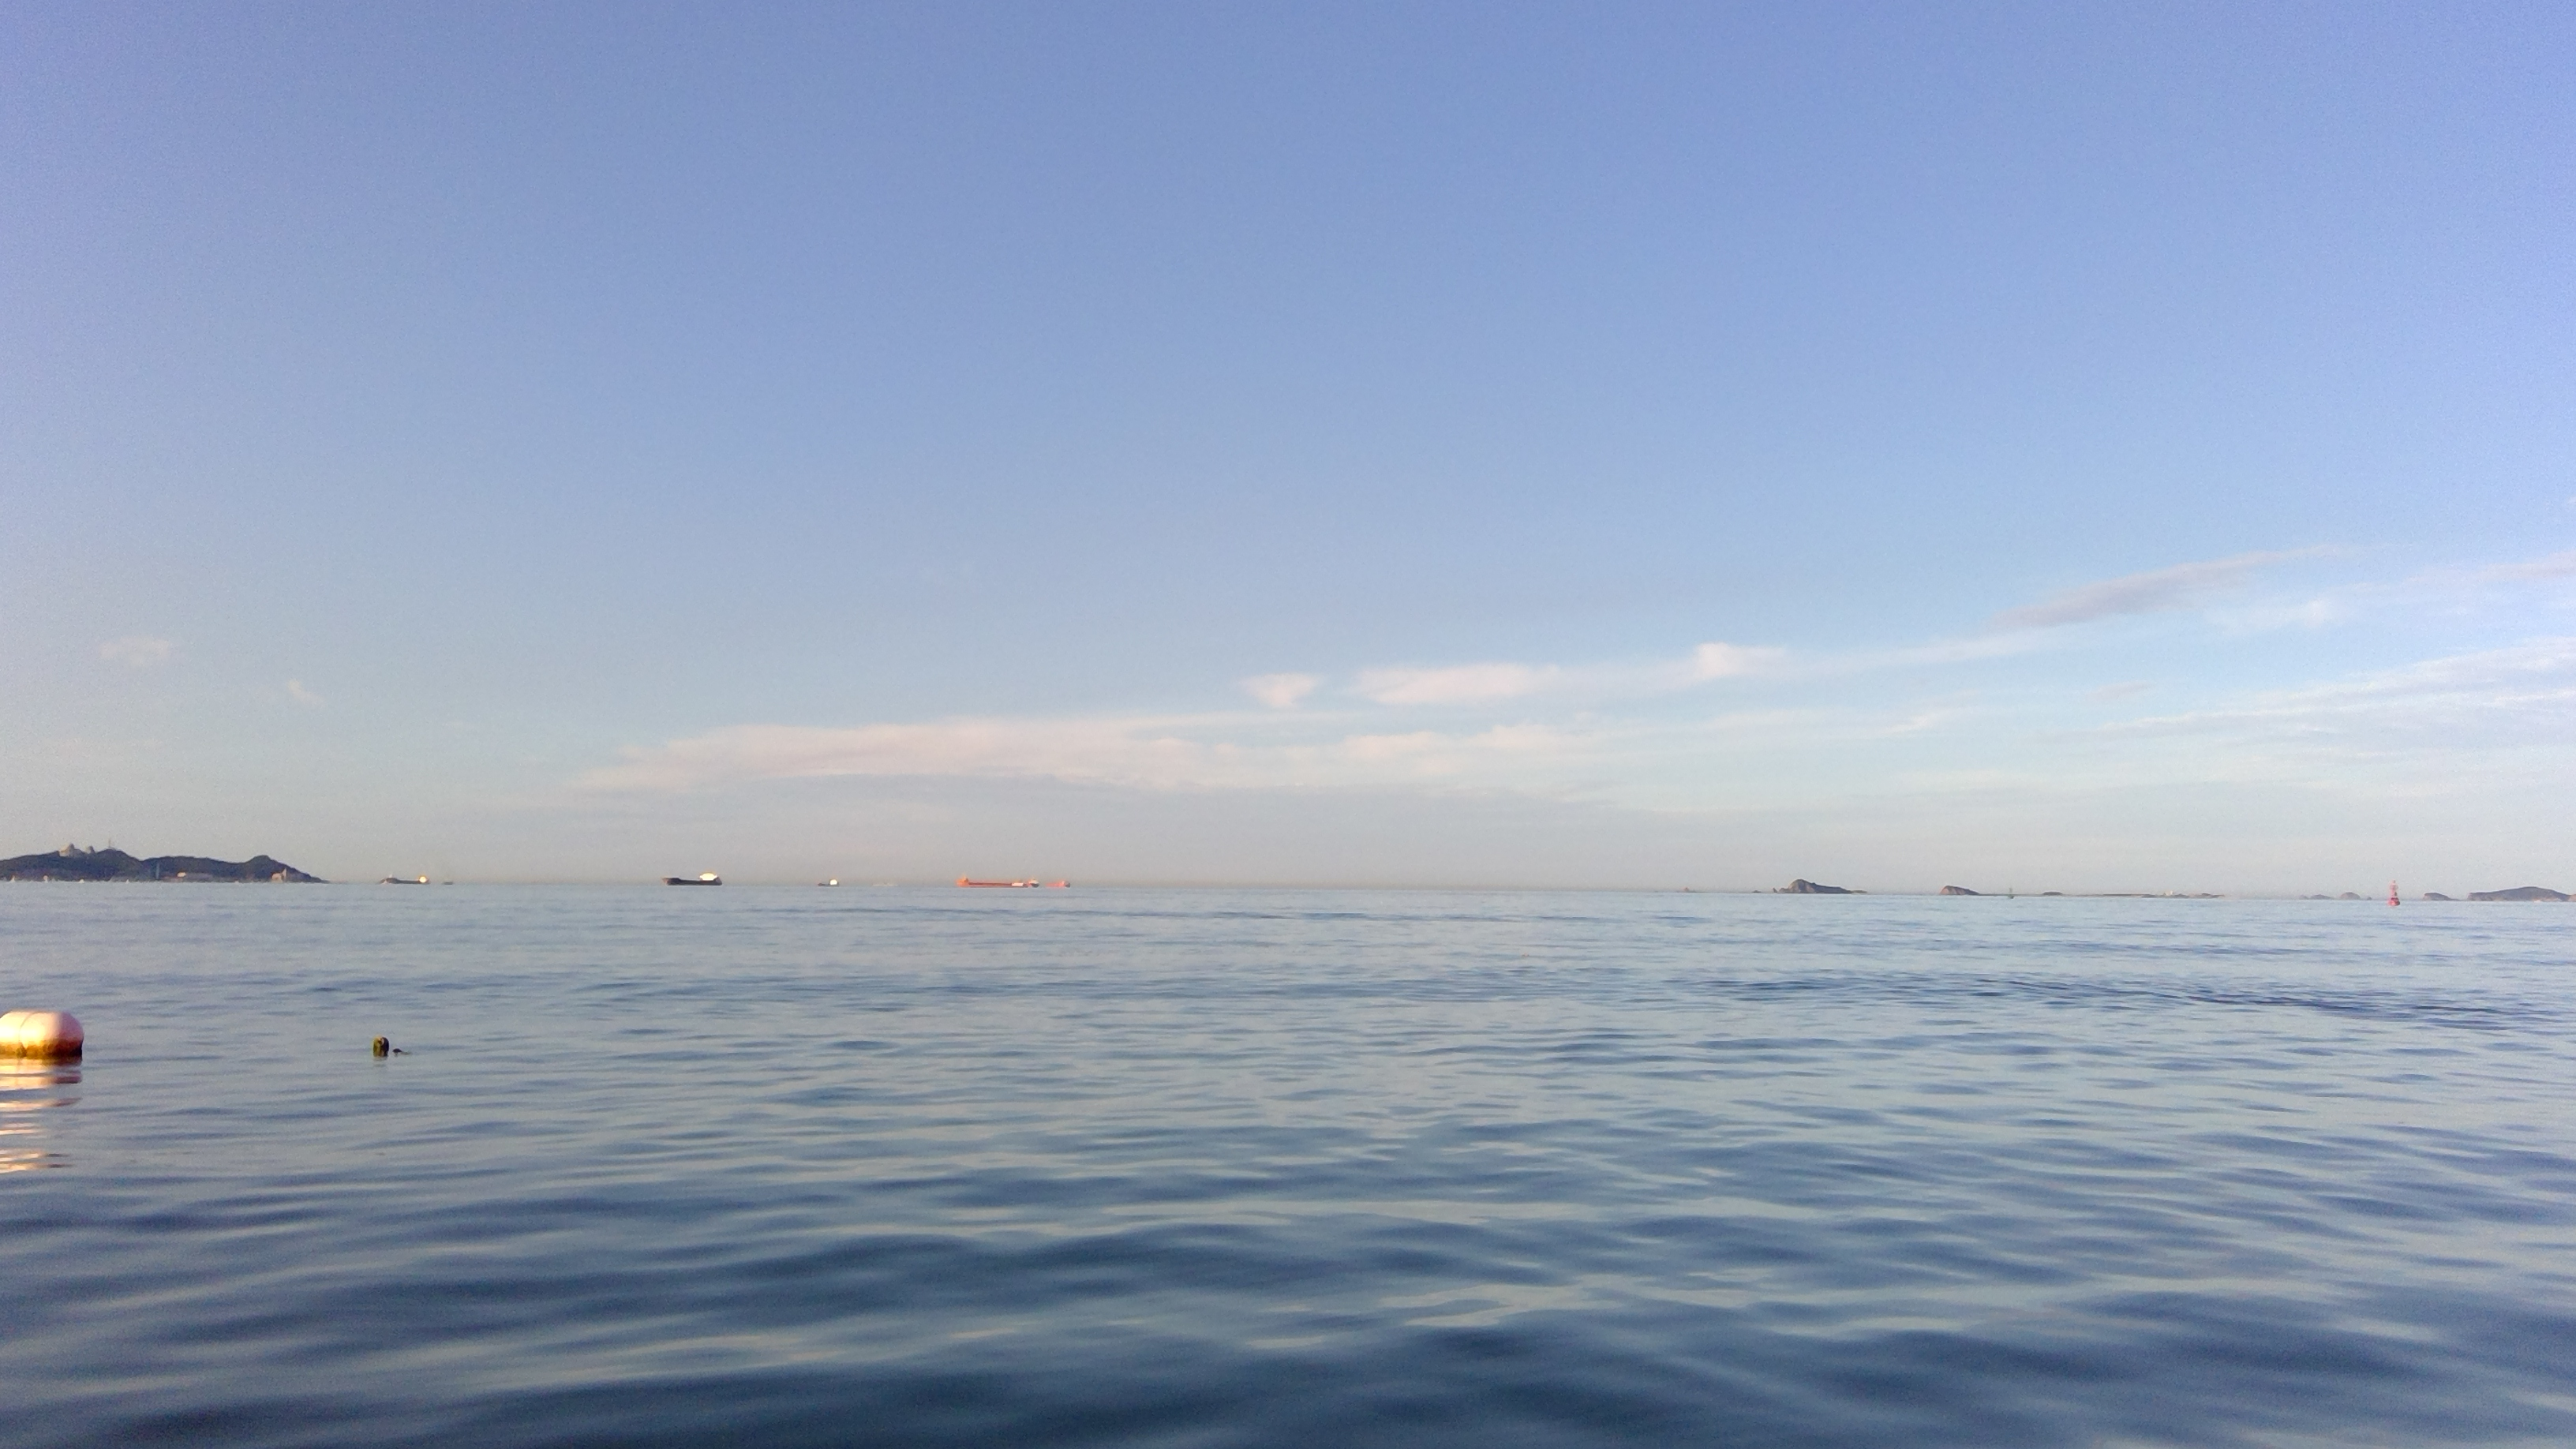ball: (0, 991, 110, 1093)
buoy: (2381, 885, 2408, 925)
platform: (959, 883, 1081, 902)
rock: (0, 842, 326, 886), (2454, 872, 2576, 918), (1775, 862, 1852, 902), (1932, 885, 2049, 911)
rubbish: (352, 1033, 405, 1062)
ship: (375, 863, 446, 897), (660, 870, 731, 888)
